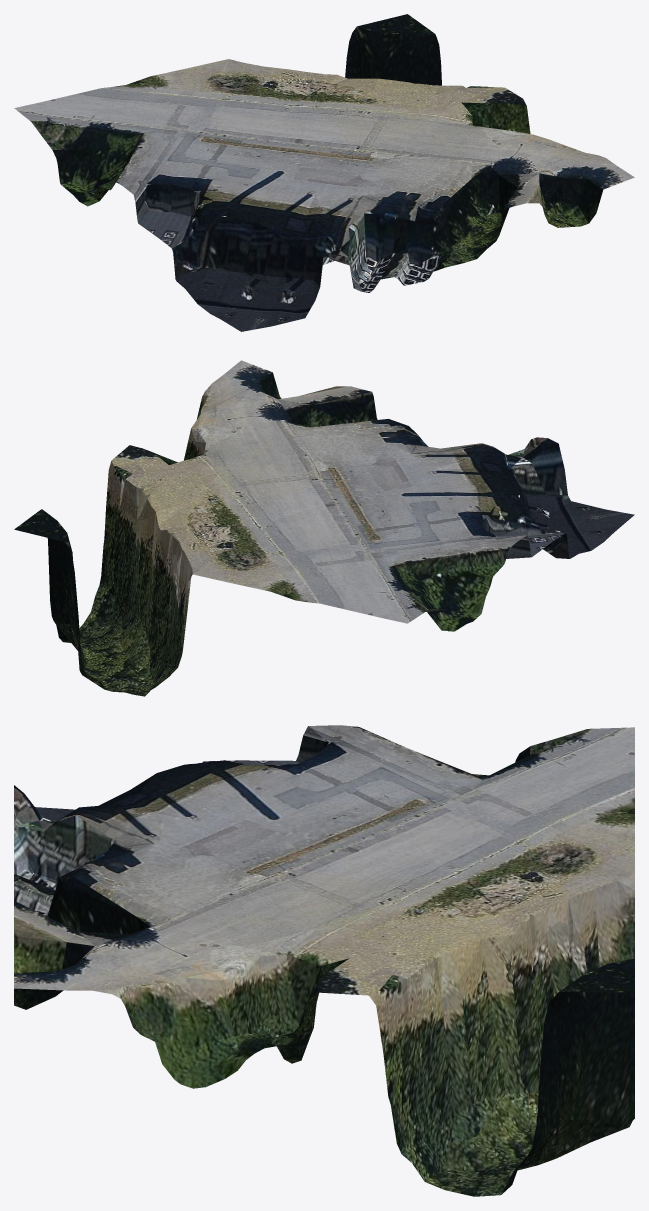
Rendered from map_15_8182_13789.dae.
The picture shows the model from 3 angles, top to bottom: view 1: azimuth 30°, elevation 25°; view 2: azimuth 150°, elevation 25°; view 3: azimuth 270°, elevation 25°; orthographic projection. The views are drawn at different scales.
Parts seen in each view (by area): view 1: Ter0; view 2: Ter0; view 3: Ter0.
Part boxes in pixels (left/top/right/bottom): Ter0: left=14, top=14, right=634, bottom=331; Ter0: left=14, top=360, right=634, bottom=696; Ter0: left=14, top=725, right=634, bottom=1196.
Bounding box in the file's own units: 63.88 × 63.88 × 23.79.
Materials: 3 (3 with a texture image).
